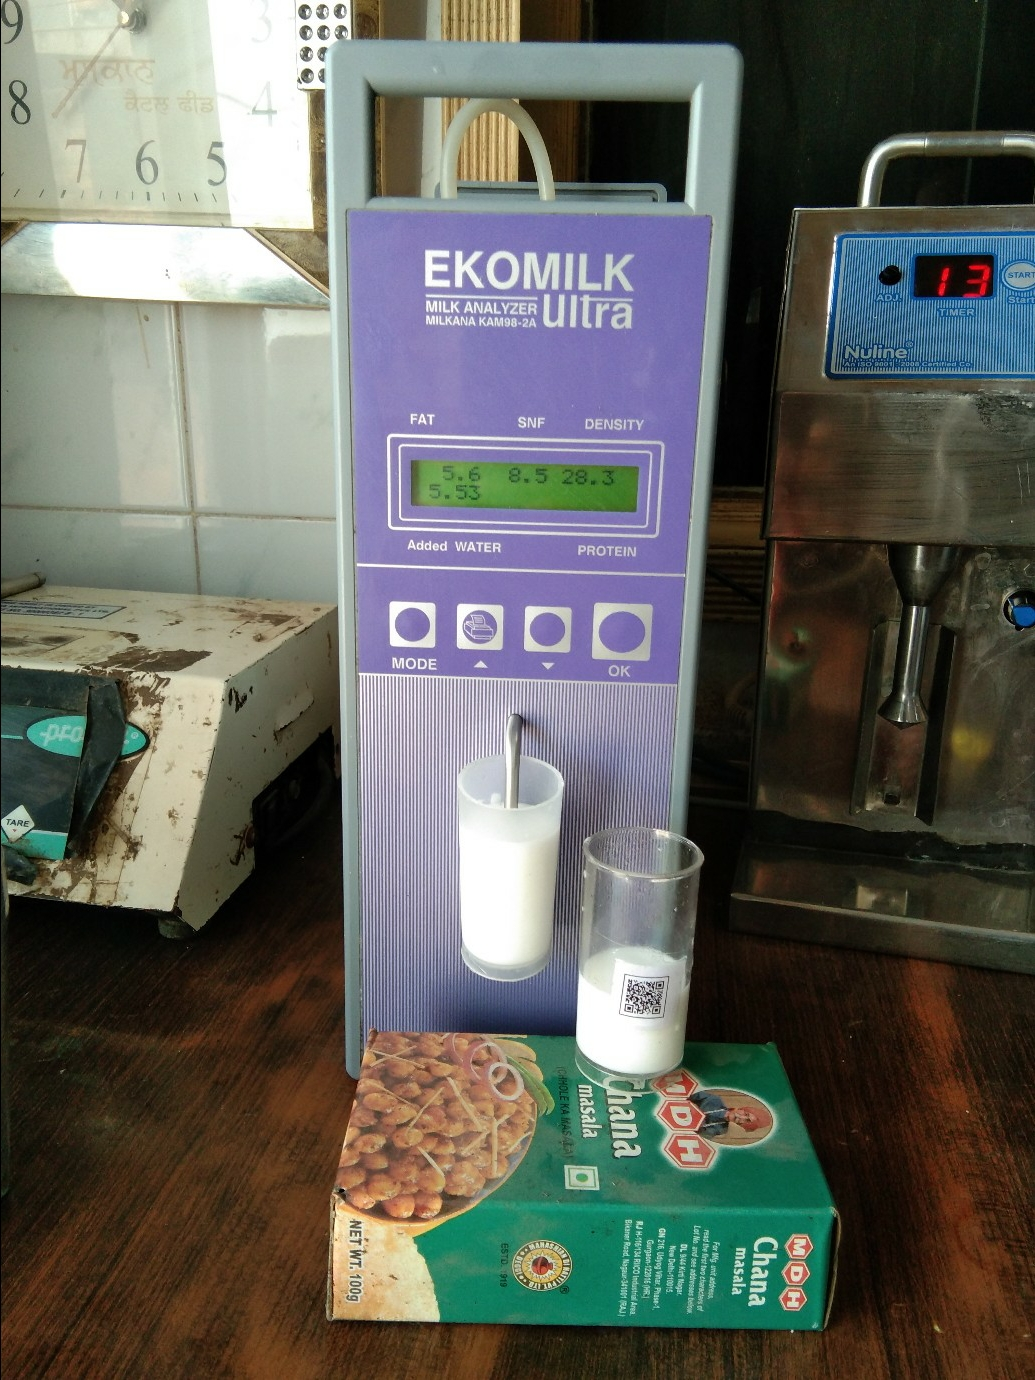lcd: (399, 453, 665, 525)
qr: (614, 970, 686, 1023)
